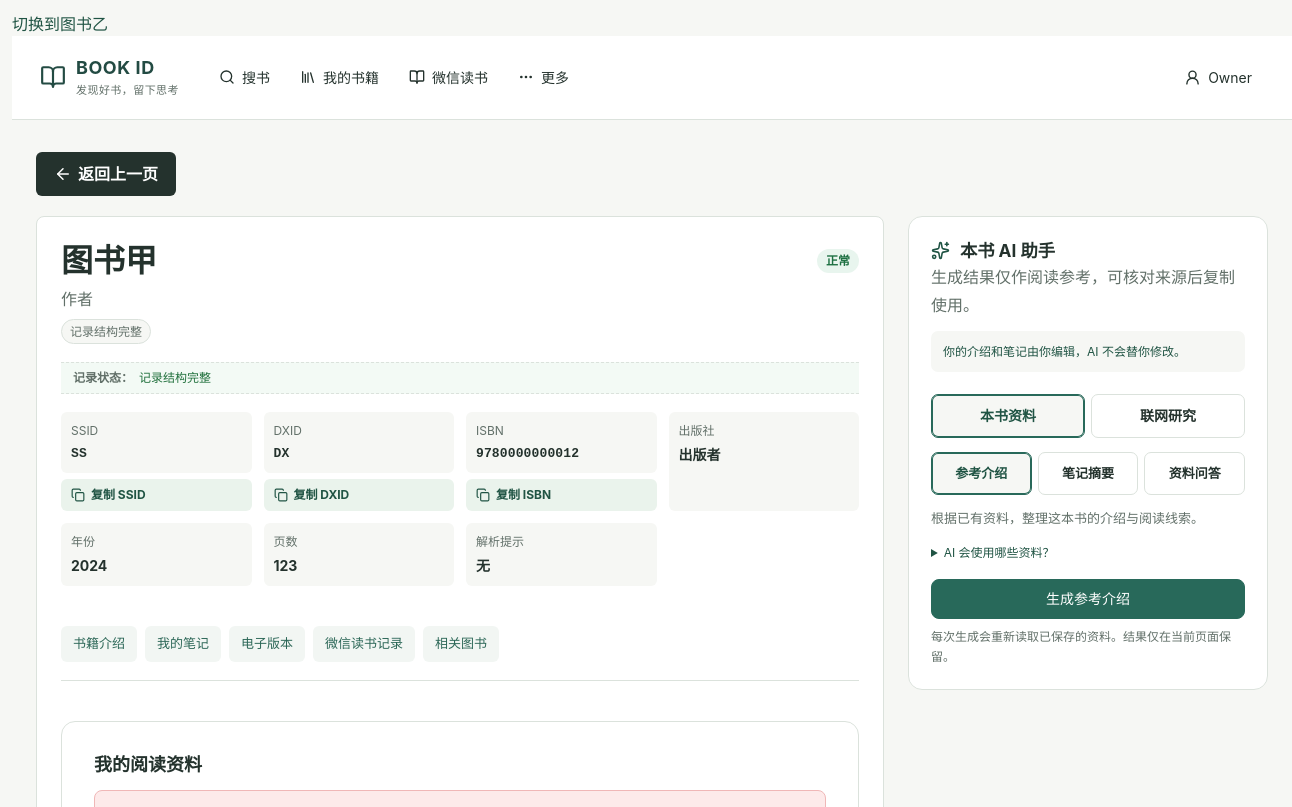
P1-A Book Detail route integration › does not leave Book A research action visible on route B while B is still pending
This screenshot has width=1292, height=807.
Click the link "切换到图书乙" at (60, 24), box [12,14,108,34]
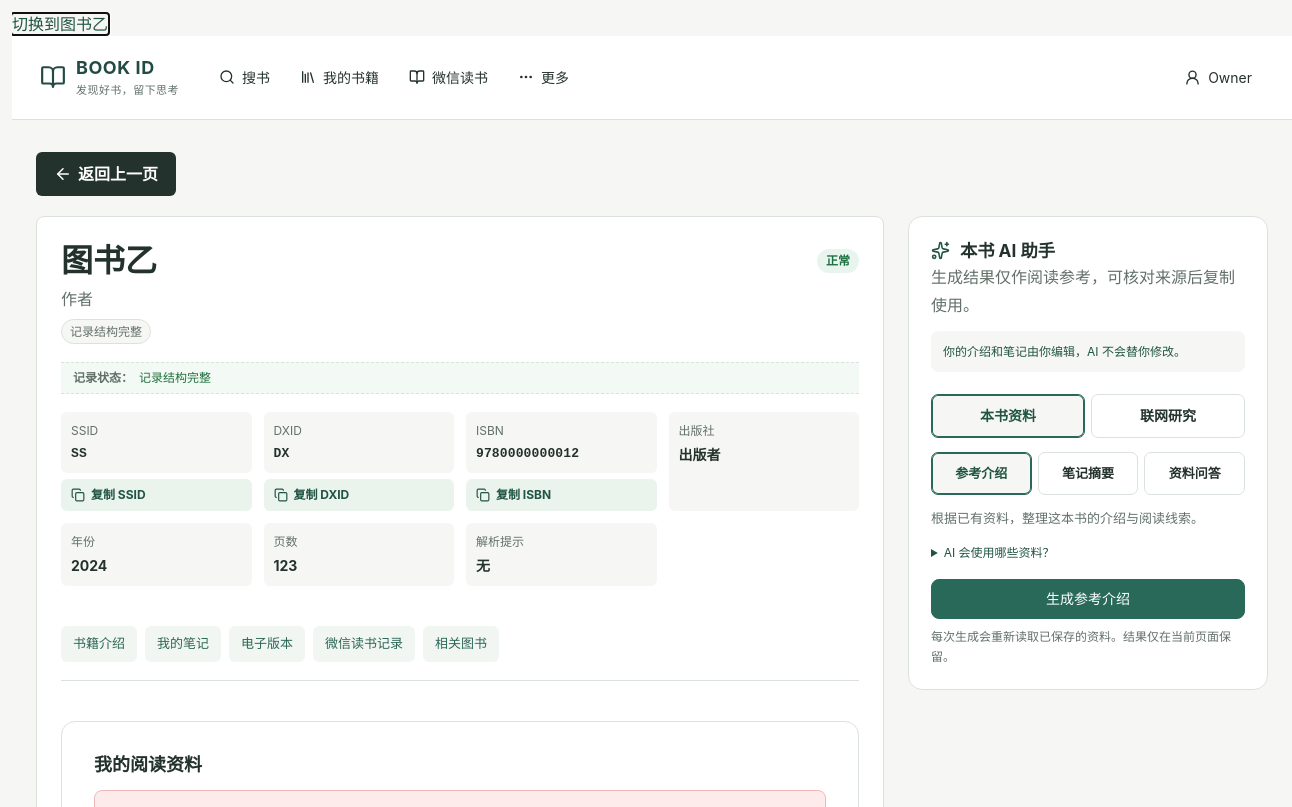
Expected: the heading "图书甲" is gone
